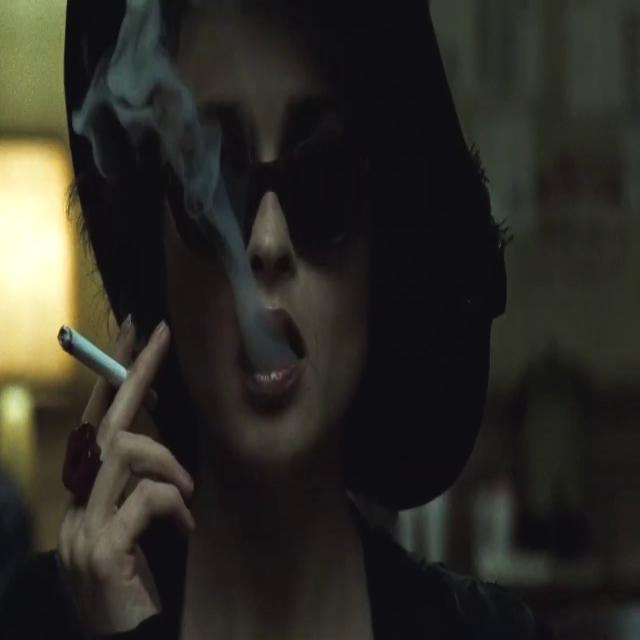Smooking: (53, 316, 133, 386)
